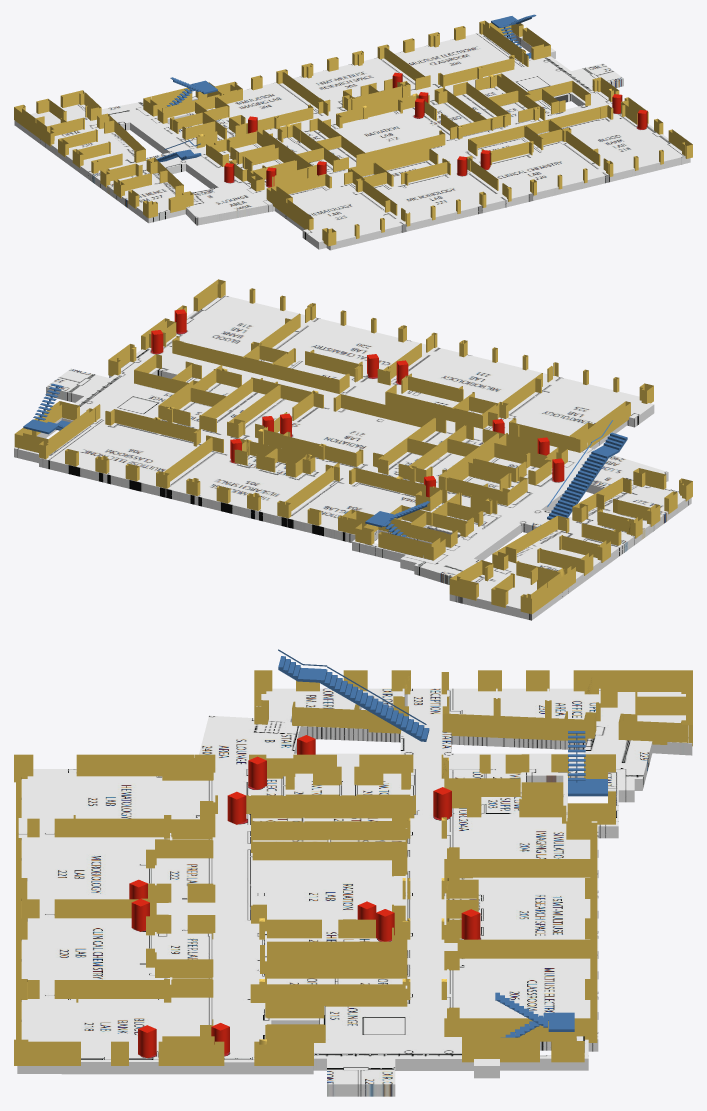
Rendered from ISELF_2ndfloor.obj.
The picture shows the model from 3 angles, top to bottom: view 1: azimuth 30°, elevation 25°; view 2: azimuth 150°, elevation 25°; view 3: azimuth 270°, elevation 25°; orthographic projection. The views are drawn at different scales.
Visible parts, largest first — view 1: ISELF2ndtFLoorc, ISELF2nd_floor_wall; view 2: ISELF2ndtFLoorc, ISELF2nd_floor_wall, StraightStair004; view 3: ISELF2ndtFLoorc, ISELF2nd_floor_wall, StraightStair004, StraightStair003, StraightStair008.
Boxes of the visible parts, <box> form: ISELF2ndtFLoorc: <box>14,31,690,250</box>; ISELF2nd_floor_wall: <box>14,20,692,246</box>; ISELF2ndtFLoorc: <box>14,295,691,620</box>; ISELF2nd_floor_wall: <box>14,279,692,614</box>; StraightStair004: <box>547,443,608,519</box>; ISELF2ndtFLoorc: <box>17,688,692,1096</box>; ISELF2nd_floor_wall: <box>14,670,692,1065</box>; StraightStair004: <box>319,666,429,741</box>; StraightStair003: <box>278,649,326,682</box>; StraightStair008: <box>568,731,585,782</box>.
Size of the model in its own units: 2513 by 292 by 1820.
4 materials, 1 textured.
